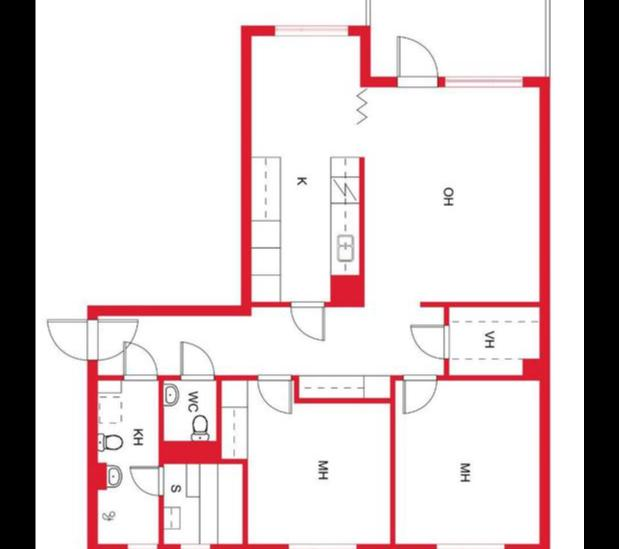bathroom: (94, 377, 158, 545), (164, 377, 218, 445)
door: (394, 32, 441, 90), (86, 316, 140, 362), (45, 318, 98, 362), (286, 299, 328, 342), (407, 320, 451, 360), (178, 338, 216, 384), (255, 372, 296, 414), (399, 371, 438, 414), (119, 340, 158, 382), (124, 463, 168, 498)
perimeter: (82, 20, 552, 549)
window: (441, 74, 529, 92), (268, 22, 355, 38), (284, 541, 364, 549), (426, 542, 510, 549), (171, 541, 216, 549), (120, 542, 161, 549)
